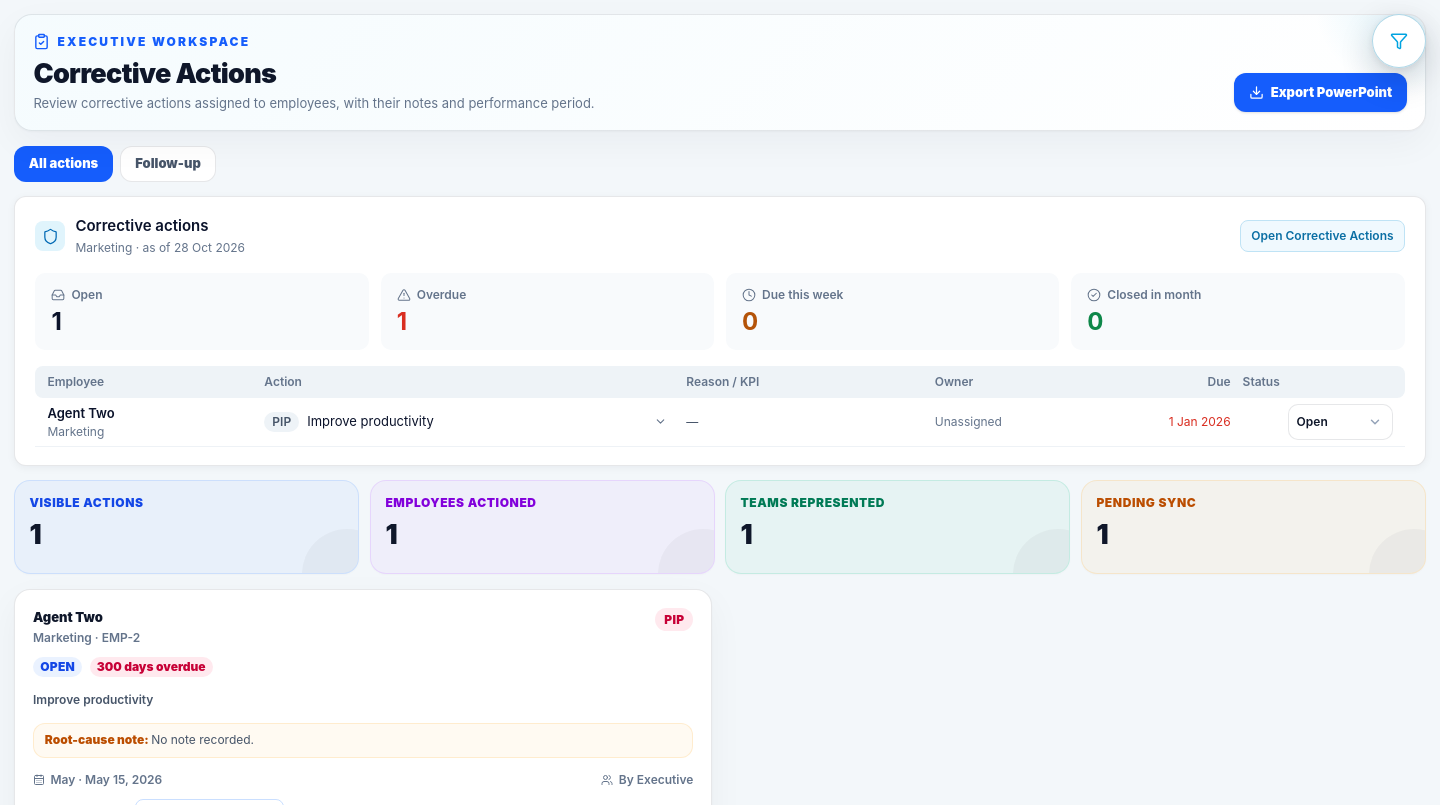
Scenario: CorrectiveActionsView › keeps function scope in the new design and the existing follow-up workflow
Expected: the link "Agent Two" is shown, x1=47 y1=405 x2=115 y2=421
Expected: the button with test id "action-tile-open" shows "1", x1=35 y1=273 x2=369 y2=350
Step 1. Click the tab "Follow-up" → coordinates (168, 164), box x1=120 y1=146 x2=216 y2=182
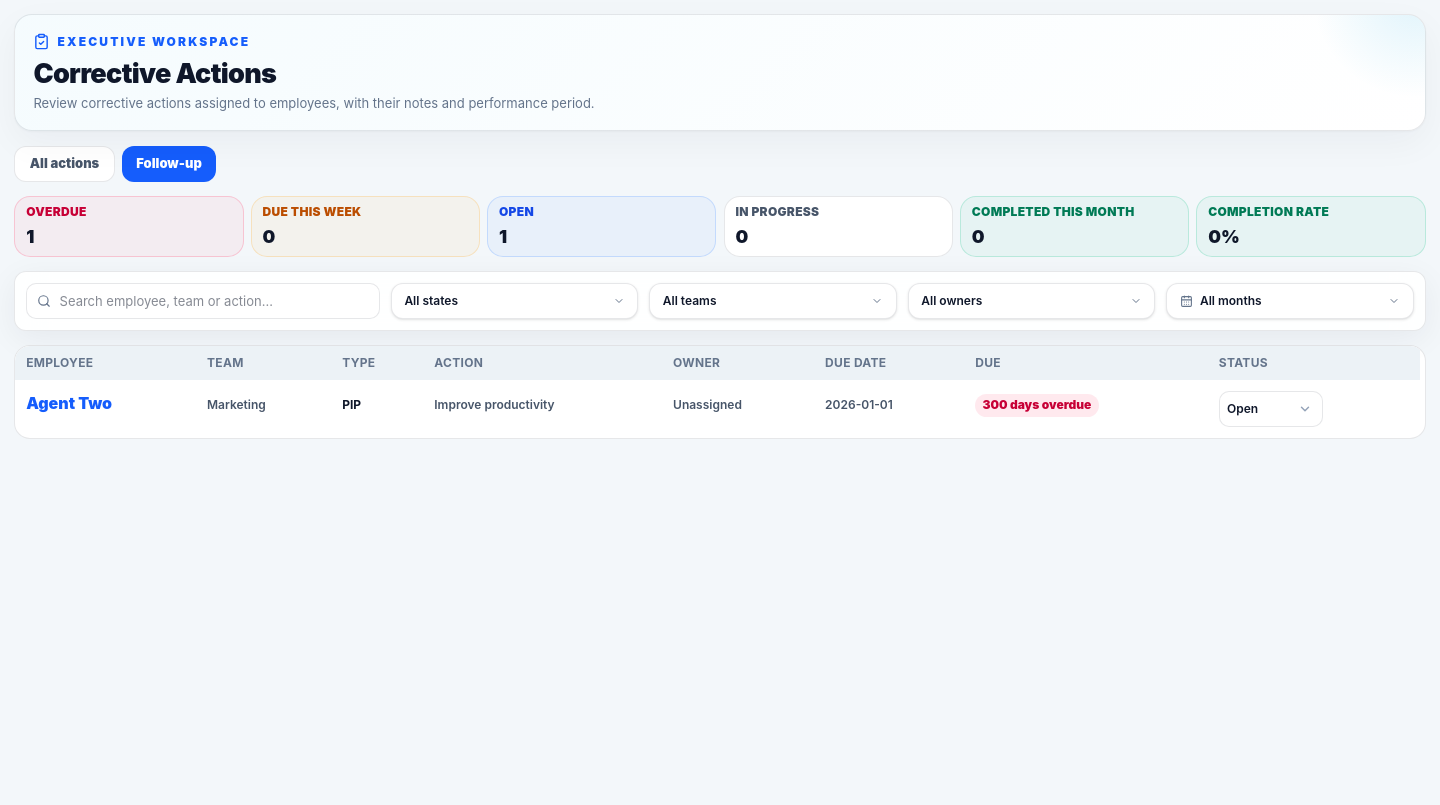
Now the number of links "Agent Two" is 2
